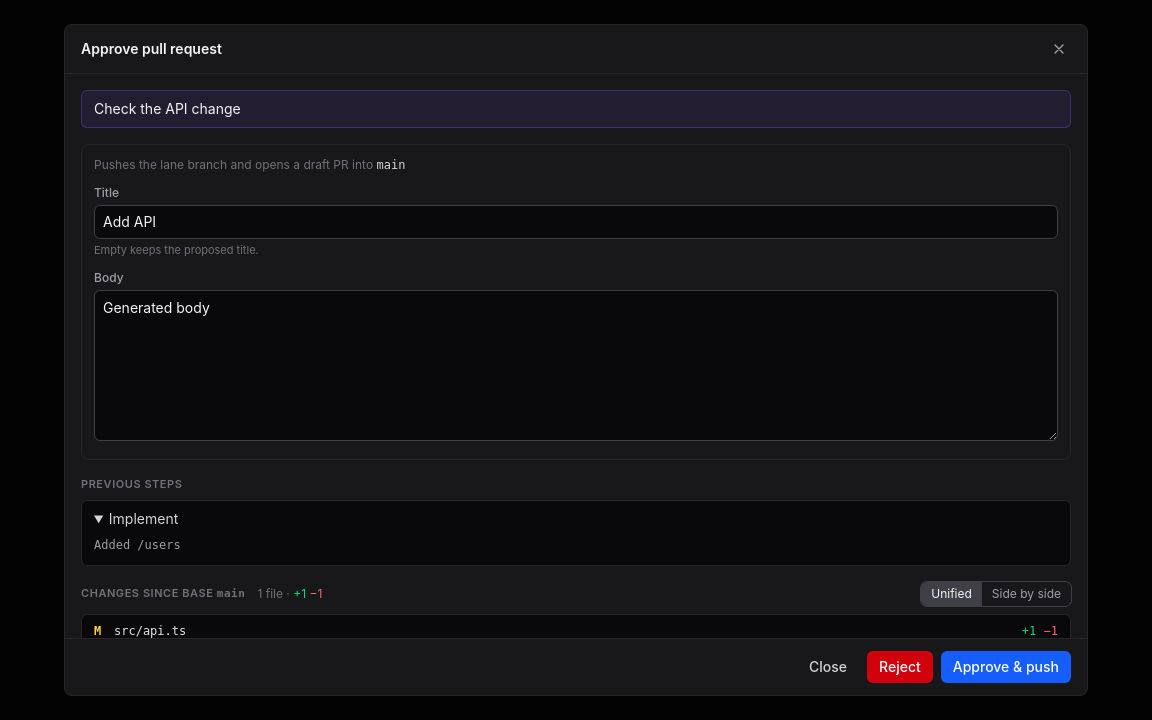
it: ApprovalDialog › reloads the gate when the decision is refused (409)
Click the button "Approve & push" at (1006, 667), box x1=941 y1=651 x2=1071 y2=683
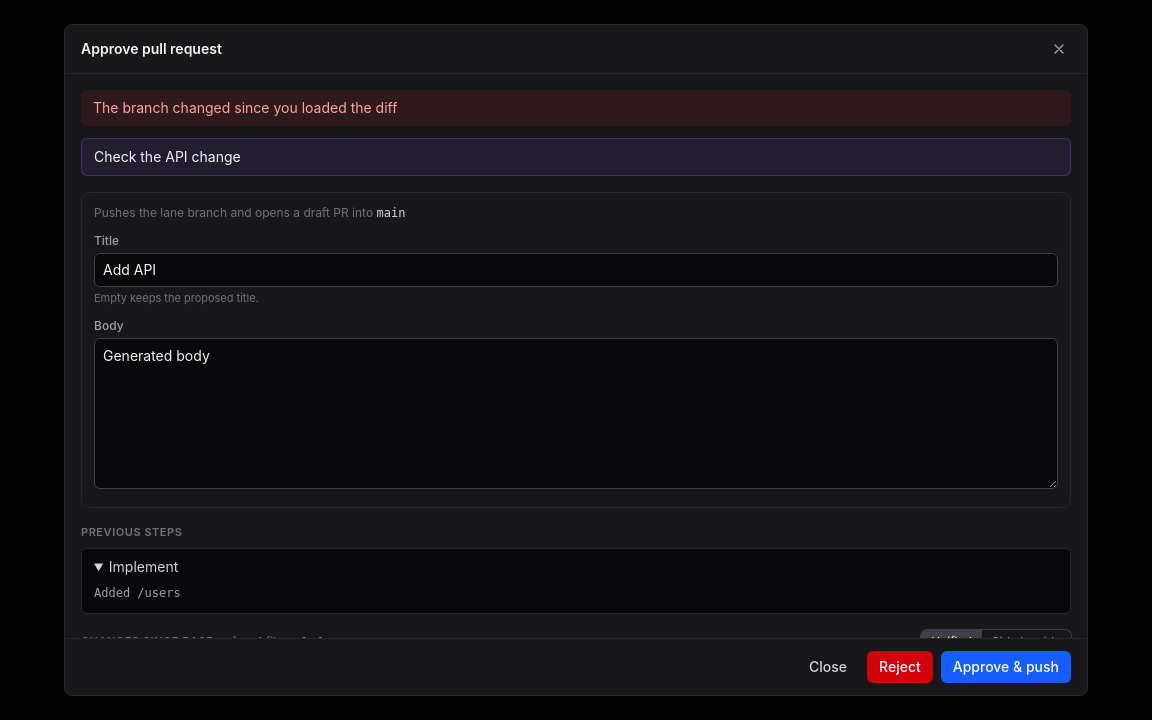
Expected: the text "The branch changed since you loaded the diff" is shown, x1=81 y1=90 x2=1071 y2=126
